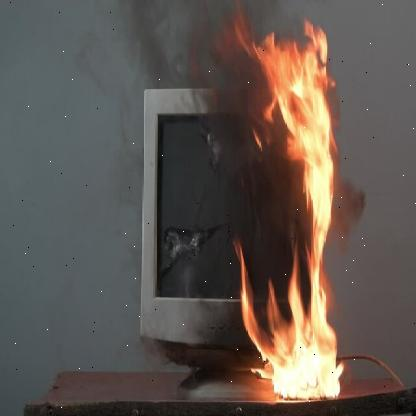fire: (231, 12, 347, 414)
smoke: (83, 0, 291, 412)
